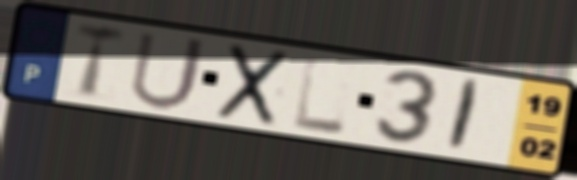3: (371, 68, 444, 147)
I: (443, 76, 485, 155)
L: (292, 54, 349, 137)
T: (72, 20, 130, 102)
U: (126, 28, 211, 112)
X: (212, 41, 293, 129)
